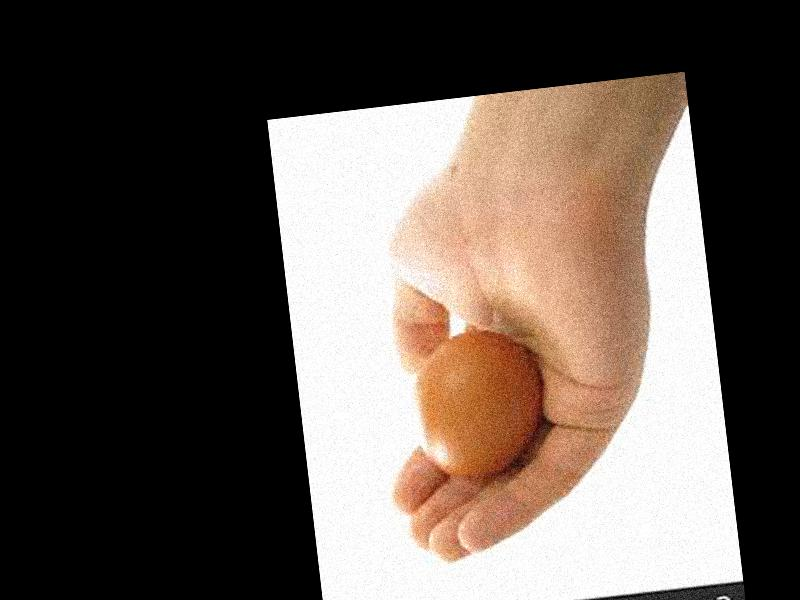Eggs: (407, 323, 548, 494)
